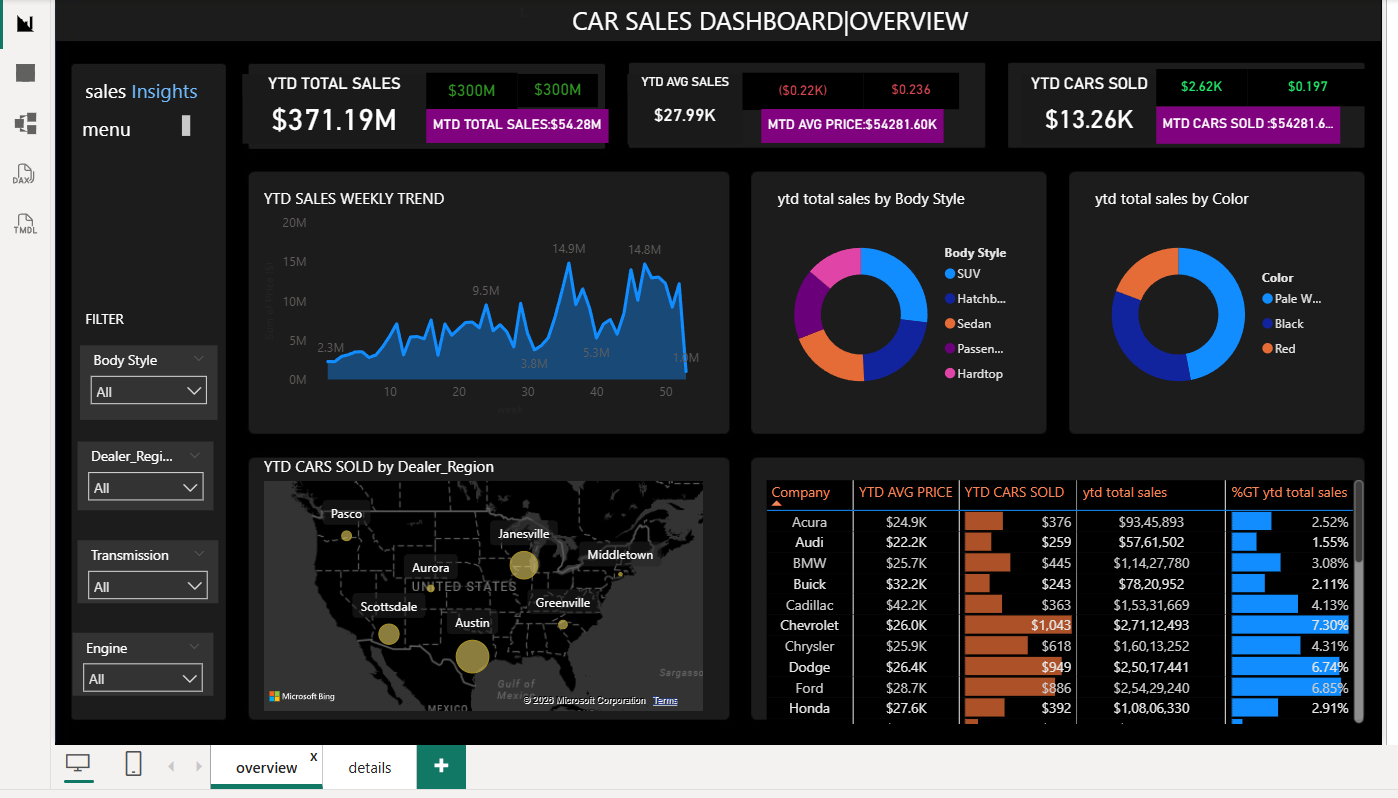

The page's visual inventory and layout, read from the dashboard file:
{"tool":"powerbi","page":{"name":"overview","canvas":[1280,720],"ordinal":0},"visuals":[{"type":"card","title":"YTD TOTAL SALES","fields":{"Values":["car_data.ytd  total sales"]},"box":[181,72.4,177.3,67.6],"z":0},{"type":"card","title":"PYTD ","fields":{"Values":["car_data.PYTD YOTAL SALES"]},"box":[357.8,70.7,88,36.1],"z":1000},{"type":"card","fields":{"Values":["car_data.MTD KPI"]},"box":[357.8,106.8,176,33.2],"z":2000},{"type":"card","title":"YTD AVG SALES","fields":{"Values":["car_data.YTD AVG PRICE"]},"box":[552.6,72.1,111.1,67.8],"z":3000},{"type":"card","title":"PYTD ","fields":{"Values":["car_data.AVG PRICE DIFF"]},"box":[663.7,70.7,116.9,36.1],"z":4000},{"type":"card","title":"PYTD ","fields":{"Values":["car_data.YOY SALES GRROWTH"]},"box":[780.6,71.2,91.7,35],"z":5000},{"type":"card","fields":{"Values":["car_data.MTD AVG PRICE KPI"]},"box":[681.6,106.2,176.1,32.6],"z":6000},{"type":"card","title":"YTD CARS SOLD","fields":{"Values":["car_data.YTD CARS SOLD"]},"box":[932,72.1,131.3,67.8],"z":7000},{"type":"card","title":"PYTD ","fields":{"Values":["car_data.CARS SOLD DIFF"]},"box":[1063.3,67.8,88,36.1],"z":8000},{"type":"card","title":"PYTD ","fields":{"Values":["car_data.YOY CAR SOLD GROWTH"]},"box":[1151.3,67.8,116.9,36.1],"z":9000},{"type":"card","fields":{"Values":["car_data.MTD CARS SOLD KPI"]},"box":[1063.3,103.9,177.5,36.1],"z":10000},{"type":"areaChart","title":" YTD SALES WEEKLY TREND","fields":{"Category":["calander table.week"],"Y":["Sum(car_data.Price ($))"]},"box":[196.2,181.8,434.3,225.1],"z":11000},{"type":"card","title":"PYTD ","fields":{"Values":["car_data.PYTD YOTAL SALES"]},"box":[445.8,72.1,77.9,31.7],"z":12000},{"type":"donutChart","fields":{"Category":["car_data.Body Style"],"Y":["car_data.ytd  total sales"]},"box":[692.5,181.8,240.9,225.1],"z":13000},{"type":"donutChart","fields":{"Category":["car_data.Color"],"Y":["car_data.ytd  total sales"]},"box":[998.4,181.8,240.9,225.1],"z":14000},{"type":"map","fields":{"Category":["car_data.Dealer_Region"],"Size":["car_data.YTD CARS SOLD"]},"box":[196.2,440,434.3,252.5],"z":15000},{"type":"tableEx","title":"company with sales trend","fields":{"Values":["car_data.Company","car_data.YTD AVG PRICE","car_data.YTD CARS SOLD","car_data.ytd  total sales","Divide(car_data.ytd  total sales, ScopedEval(car_data.ytd  total sales, []))"]},"box":[681,460.2,587.2,243.8],"z":16000},{"type":"textbox","box":[437.2,0,561.2,67.8],"z":17000},{"type":"slicer","fields":{"Values":["car_data.Body Style"]},"box":[24.5,334.7,132.7,72.1],"z":18000},{"type":"slicer","fields":{"Values":["car_data.Dealer_Region"]},"box":[21.6,427.1,131.3,66.4],"z":19000},{"type":"slicer","fields":{"Values":["car_data.Transmission"]},"box":[21.6,522.3,135.6,60.6],"z":20000},{"type":"slicer","fields":{"Values":["car_data.Engine"]},"box":[17.3,611.7,135.6,60.6],"z":21000},{"type":"textbox","box":[24.5,294.3,124.1,31.7],"z":22000},{"type":"textbox","box":[24.1,71.2,136.3,36.2],"z":23000},{"type":"textbox","box":[21.7,107.4,113.4,32.6],"z":24000}]}

Visuals, with their boxes on the page's 1280x720 design canvas (x1, y1, x2, y2). These are canvas units, not pixel positions in the 1398x798 screenshot, which may show the page scaled, cropped or inside an application window:
"YTD TOTAL SALES" card: BBox(181, 72, 358, 140)
"PYTD " card: BBox(358, 71, 446, 107)
card - car_data.MTD KPI: BBox(358, 107, 534, 140)
"YTD AVG SALES" card: BBox(553, 72, 664, 140)
"PYTD " card: BBox(664, 71, 781, 107)
"PYTD " card: BBox(781, 71, 872, 106)
card - car_data.MTD AVG PRICE KPI: BBox(682, 106, 858, 139)
"YTD CARS SOLD" card: BBox(932, 72, 1063, 140)
"PYTD " card: BBox(1063, 68, 1151, 104)
"PYTD " card: BBox(1151, 68, 1268, 104)
card - car_data.MTD CARS SOLD KPI: BBox(1063, 104, 1241, 140)
" YTD SALES WEEKLY TREND" areaChart: BBox(196, 182, 630, 407)
"PYTD " card: BBox(446, 72, 524, 104)
donutChart - car_data.Body Style x car_data.ytd  total sales: BBox(692, 182, 933, 407)
donutChart - car_data.Color x car_data.ytd  total sales: BBox(998, 182, 1239, 407)
map - car_data.Dealer_Region x car_data.YTD CARS SOLD: BBox(196, 440, 630, 692)
"company with sales trend" tableEx: BBox(681, 460, 1268, 704)
textbox: BBox(437, 0, 998, 68)
slicer - car_data.Body Style: BBox(24, 335, 157, 407)
slicer - car_data.Dealer_Region: BBox(22, 427, 153, 494)
slicer - car_data.Transmission: BBox(22, 522, 157, 583)
slicer - car_data.Engine: BBox(17, 612, 153, 672)
textbox: BBox(24, 294, 149, 326)
textbox: BBox(24, 71, 160, 107)
textbox: BBox(22, 107, 135, 140)
